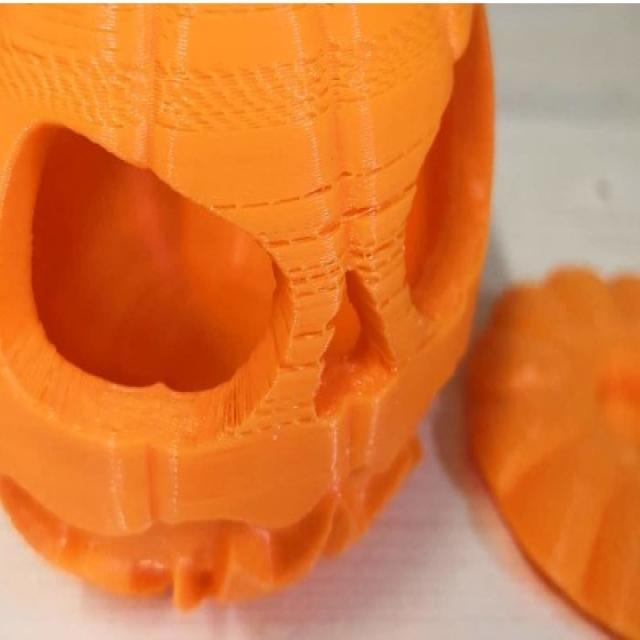Warping: (258, 156, 411, 260)
